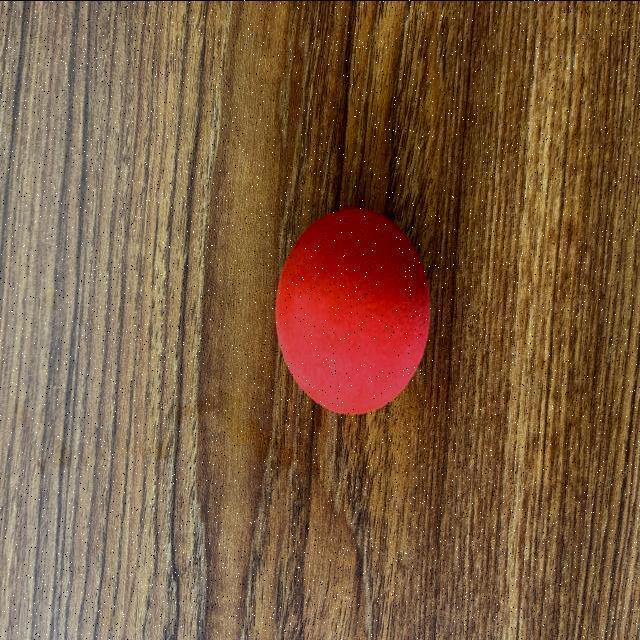ping-pong-ball: (272, 206, 430, 416)
